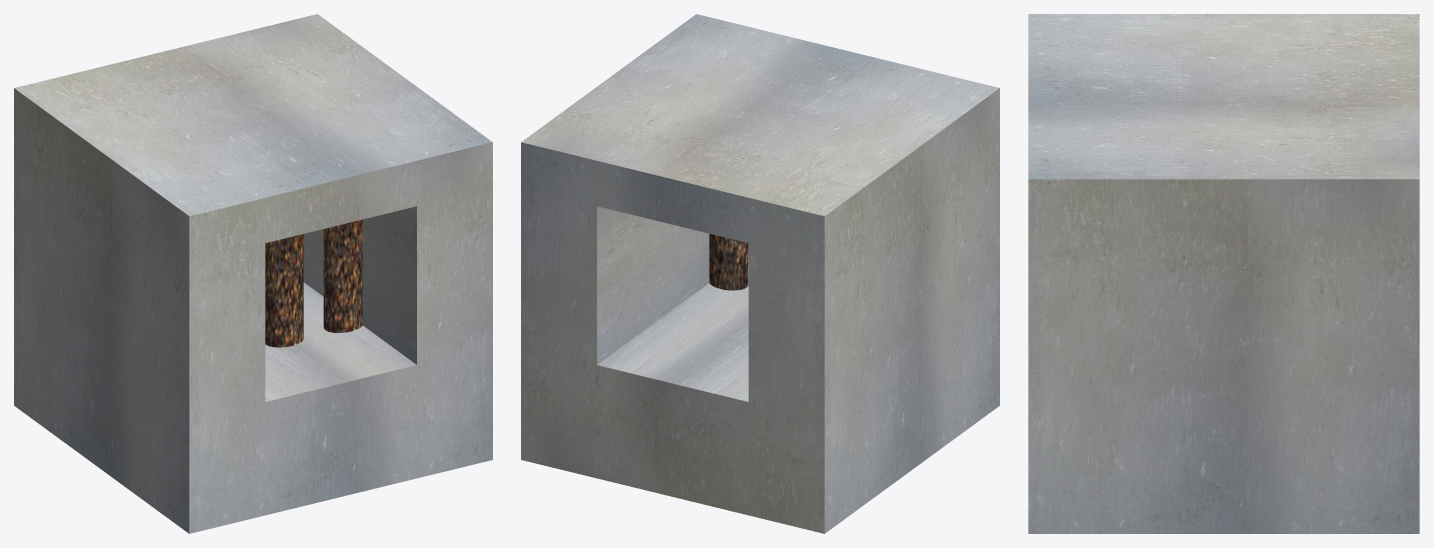
File: Wand_02.fbx
The picture shows the model from 3 angles, left to right: view 1: azimuth 30°, elevation 25°; view 2: azimuth 150°, elevation 25°; view 3: azimuth 270°, elevation 25°; orthographic projection. The views are drawn at different scales.
Parts seen in each view (by area): view 1: pCube13, pasted__pasted__pasted__pasted__pCylinder1, pasted__pasted__pCylinder1; view 2: pCube13, pasted__pasted__pasted__pasted__pCylinder1; view 3: pCube13.
Part boxes in pixels (x1,y1,x2,y2): pCube13: [14, 14, 492, 533]; pasted__pasted__pasted__pasted__pCylinder1: [323, 219, 362, 332]; pasted__pasted__pCylinder1: [265, 234, 303, 347]; pCube13: [521, 14, 999, 533]; pasted__pasted__pasted__pasted__pCylinder1: [709, 233, 748, 290]; pCube13: [1028, 14, 1419, 533].
Size of the model in its own units: 10 by 10 by 10.
2 materials, 2 textured.
